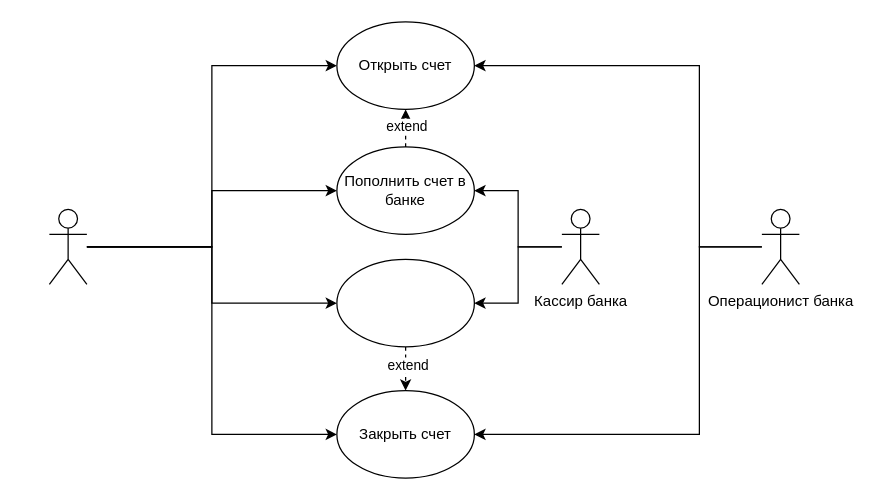
Some shapes in this 875 by 500 pixel diagram are drawn without their labels. Here are the shapes that lost their labels. From the top down, the centre of each, then its label:
At point 67,246: "Клиент банка".
At point 405,302: "снять деньги".
